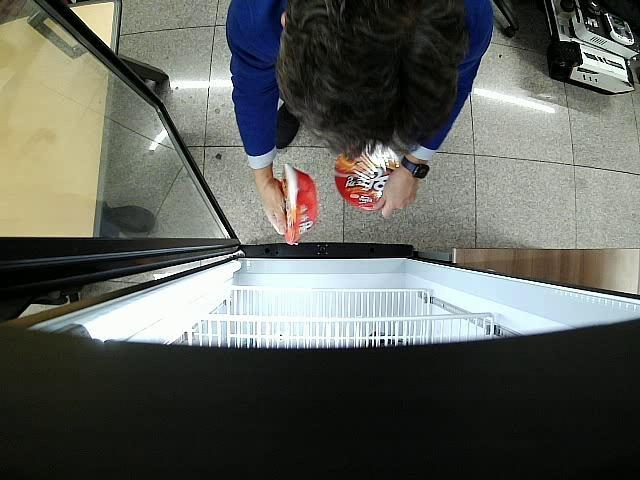10_wangTtukkeong: (334, 141, 401, 211), (280, 164, 318, 245)
